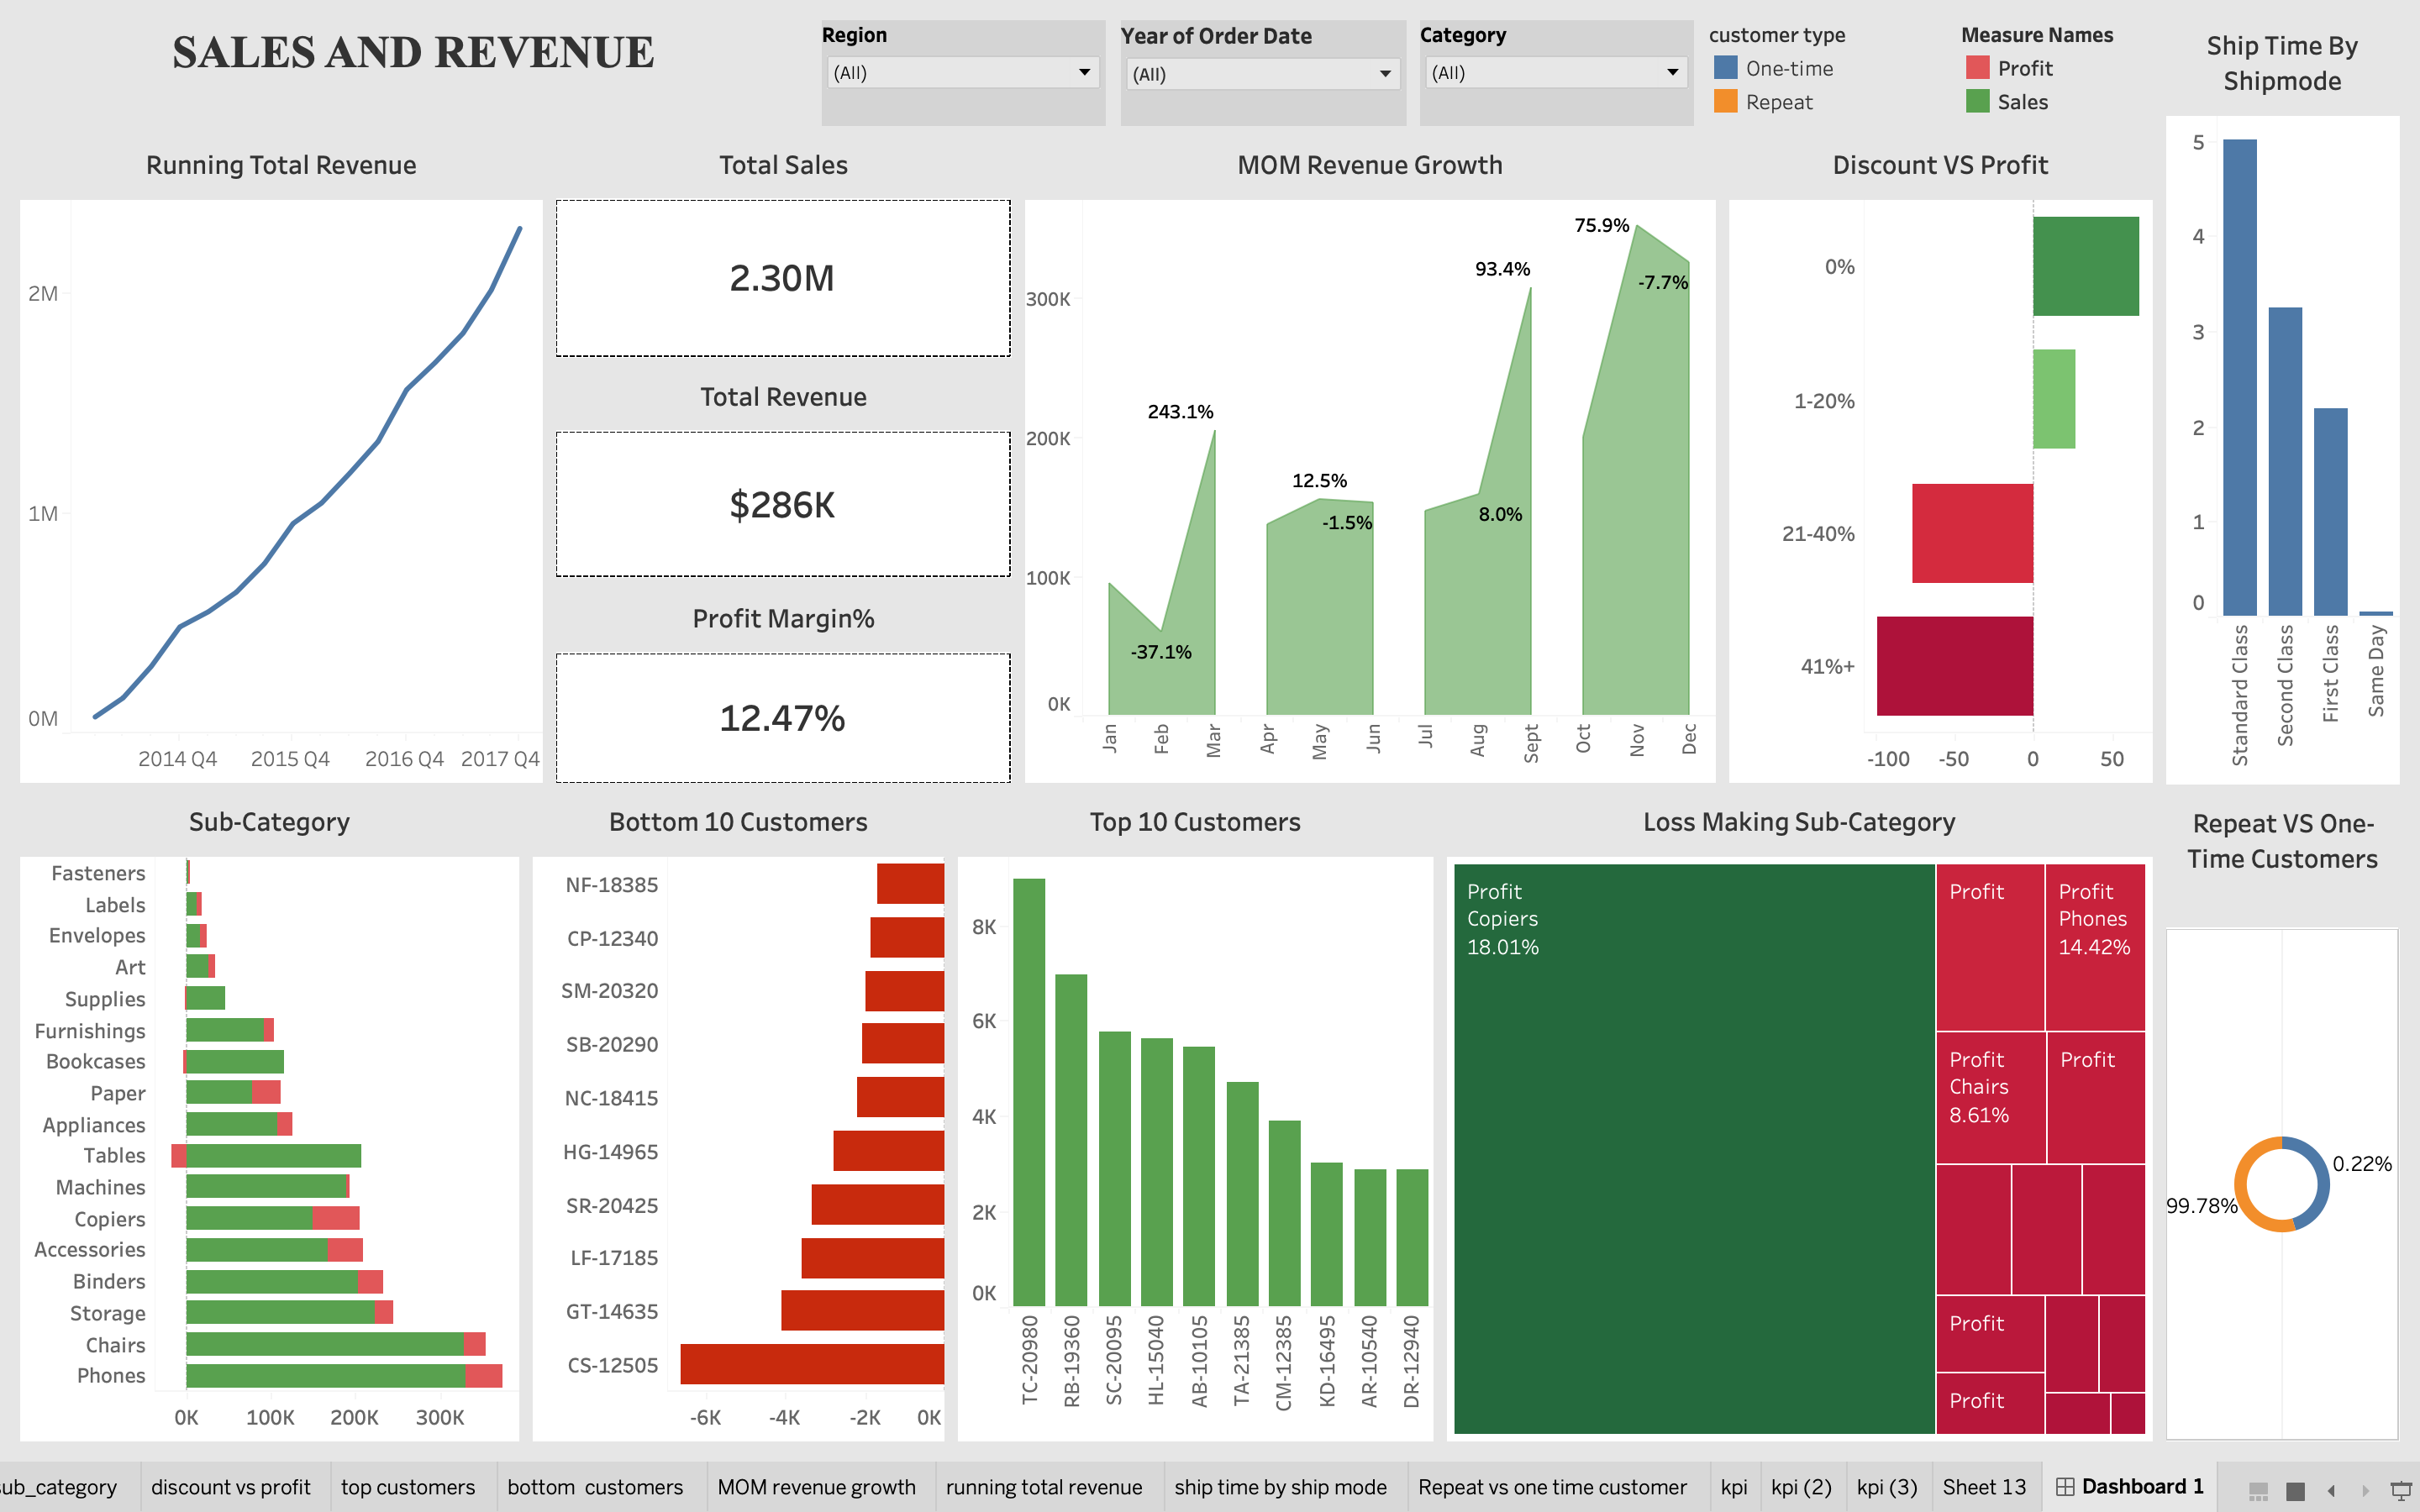

The page's visual inventory and layout, read from the dashboard file:
{"tool":"tableau","page":{"name":"Dashboard 1","canvas":[1000,1000],"units":"permille","ordinal":0},"visuals":[{"type":"worksheet","title":"Sheet 13","mark":"Automatic","box":[5.6,9.2,331.5,81.7]},{"type":"filter","title":"MOM revenue growth","param":"[federated.0q3wxve1r91qpj1adii0603s43yn].[none:region:nk]","box":[337.1,9.2,123.2,81.7]},{"type":"filter","title":"Negative profit sub_category","param":"[federated.0q3wxve1r91qpj1adii0603s43yn].[yr:order_date:ok]","box":[460.3,9.2,123.9,81.7]},{"type":"filter","title":"MOM revenue growth","param":"[federated.0q3wxve1r91qpj1adii0603s43yn].[none:category:nk]","box":[584.2,9.2,118.9,81.7]},{"type":"legend","title":"Repeat vs one time customer","param":"[federated.0q3wxve1r91qpj1adii0603s43yn].[none:Calculation_1864935771701254:nk]","box":[703.1,9.2,104.6,81.7]},{"type":"legend","title":"region/category","param":"[federated.0q3wxve1r91qpj1adii0603s43yn].[:Measure Names]","box":[807.7,9.2,84.6,81.7]},{"type":"worksheet","title":"ship time by ship mode","mark":"Automatic","rows":["Calculation_1864935757139969"],"cols":["ship_mode"],"box":[892.4,9.2,102.1,531.7]},{"type":"worksheet","title":"running total revenue","mark":"Automatic","rows":["sales"],"cols":["order_date"],"box":[5.6,90.9,221.3,449.9]},{"type":"worksheet","title":"kpi","mark":"Automatic","box":[226.9,90.9,194,158.7]},{"type":"worksheet","title":"MOM revenue growth","mark":"Area","rows":["sales"],"cols":["order_date"],"box":[420.9,90.9,290.7,449.9]},{"type":"worksheet","title":"discount vs profit","mark":"Automatic","rows":["Calculation_1864935757570050"],"cols":["profit"],"box":[711.6,90.9,180.7,449.9]},{"type":"worksheet","title":"kpi (2)","mark":"Automatic","box":[226.9,249.6,194,151.1]},{"type":"worksheet","title":"kpi (3)","mark":"Automatic","box":[226.9,400.7,194,140]},{"type":"worksheet","title":"region/category","mark":"Automatic","rows":["sub_category"],"box":[5.6,540.8,211.9,450]},{"type":"worksheet","title":"bottom  customers ","mark":"Automatic","rows":["customer_id"],"cols":["profit"],"box":[217.5,540.8,175.8,450]},{"type":"worksheet","title":"top customers ","mark":"Automatic","rows":["profit"],"cols":["customer_id"],"box":[393.2,540.8,202,450]},{"type":"worksheet","title":"Negative profit sub_category","mark":"Automatic","box":[595.3,540.8,297.1,450]},{"type":"worksheet","title":"Repeat vs one time customer","mark":"Pie","cols":["Calculation_1864935774158864","Calculation_1864935774158864"],"box":[892.4,540.9,102.1,449.9]}]}

Visuals, with their boxes on the dashboard's canvas, which has no fixed pixel size, in thousandths of its width and height (x1, y1, x2, y2). These are canvas units, not pixel positions in the 2420x1512 screenshot, which may show the page scaled, cropped or inside an application window:
"Sheet 13" worksheet: 6,9,337,91
"MOM revenue growth" filter: 337,9,460,91
"Negative profit sub_category" filter: 460,9,584,91
"MOM revenue growth" filter: 584,9,703,91
"Repeat vs one time customer" legend: 703,9,808,91
"region/category" legend: 808,9,892,91
"ship time by ship mode" worksheet: 892,9,994,541
"running total revenue" worksheet: 6,91,227,541
"kpi" worksheet: 227,91,421,250
"MOM revenue growth" worksheet (Area marks): 421,91,712,541
"discount vs profit" worksheet: 712,91,892,541
"kpi (2)" worksheet: 227,250,421,401
"kpi (3)" worksheet: 227,401,421,541
"region/category" worksheet: 6,541,218,991
"bottom  customers " worksheet: 218,541,393,991
"top customers " worksheet: 393,541,595,991
"Negative profit sub_category" worksheet: 595,541,892,991
"Repeat vs one time customer" worksheet (Pie marks): 892,541,994,991
